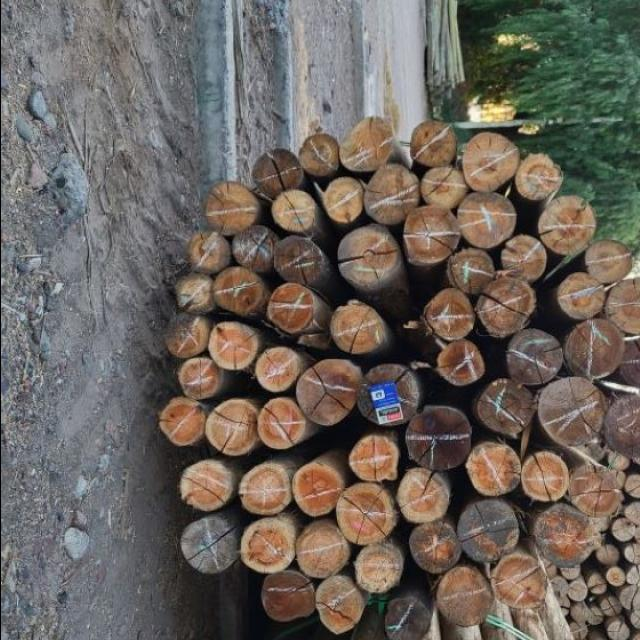package: (156, 114, 640, 640), (556, 443, 640, 640)
